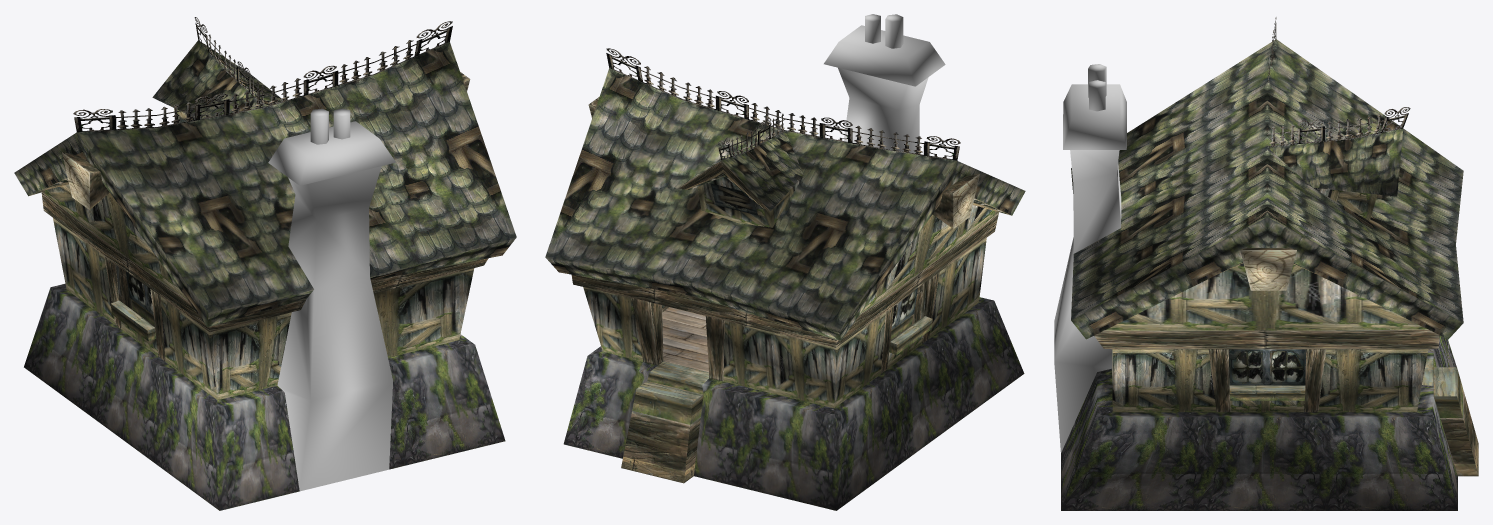
File: duskwoodabandoned_human_farm.obj
3 renders of one model, left to right at view 1: azimuth 30°, elevation 25°; view 2: azimuth 150°, elevation 25°; view 3: azimuth 270°, elevation 25°, orthographic. The views are drawn at different scales.
Visible parts, largest first — view 1: exterior, interior; view 2: exterior, interior; view 3: exterior.
Boxes of the visible parts, x1,y1,x2,y2 form: exterior: (14, 17, 516, 510); interior: (116, 265, 154, 326); exterior: (545, 14, 1025, 510); interior: (662, 282, 926, 372); exterior: (1054, 17, 1478, 510).
Bounding box in the file's own units: 18.87 × 16.88 × 18.02.
